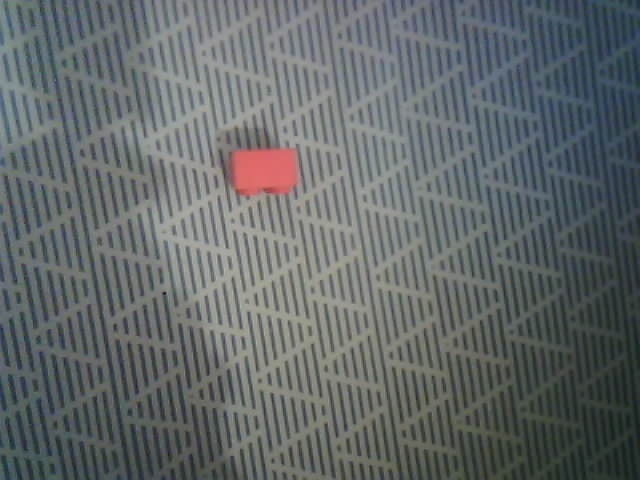lego: (229, 147, 300, 195)
